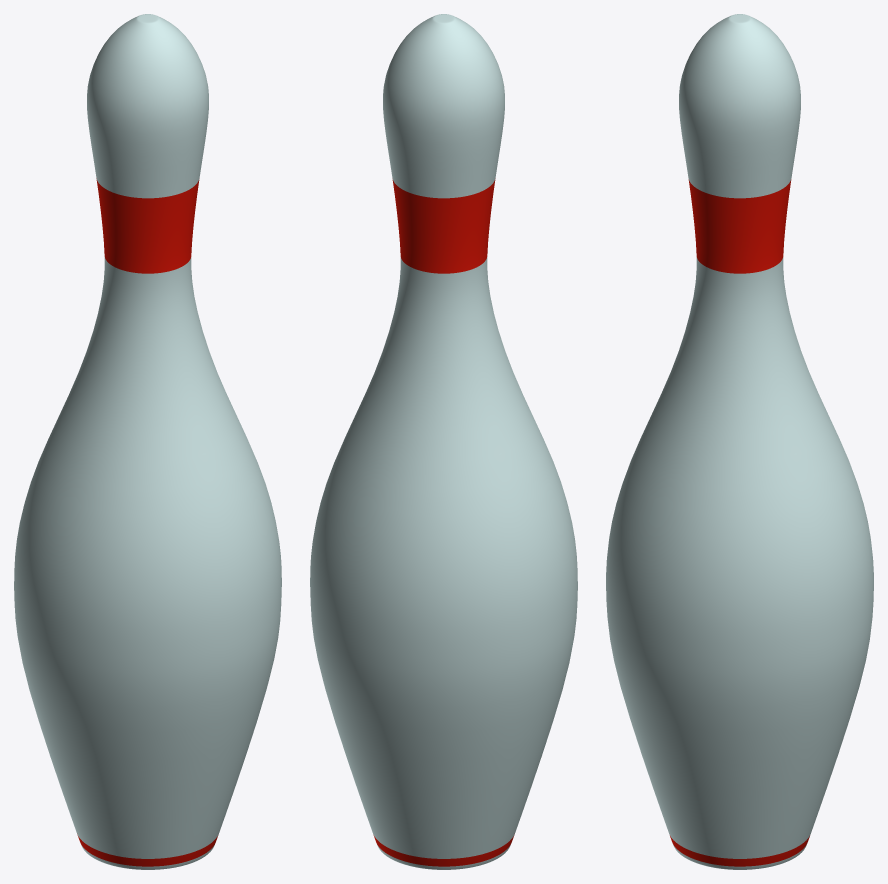
Rendered from skittles.fbx.
The picture shows the model from 3 angles, left to right: view 1: azimuth 30°, elevation 25°; view 2: azimuth 150°, elevation 25°; view 3: azimuth 270°, elevation 25°; orthographic projection.
Visible parts, largest first — view 1: Cylinder; view 2: Cylinder; view 3: Cylinder.
Part boxes in pixels (<box>): Cylinder: <box>14,14,281,869</box>; Cylinder: <box>310,14,577,869</box>; Cylinder: <box>606,14,873,869</box>.
Bounding box in the file's own units: 145 × 493 × 145.
